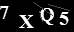5: (58, 11, 70, 26)
7: (1, 5, 10, 20)
Q: (38, 7, 56, 26)
X: (17, 14, 35, 29)
